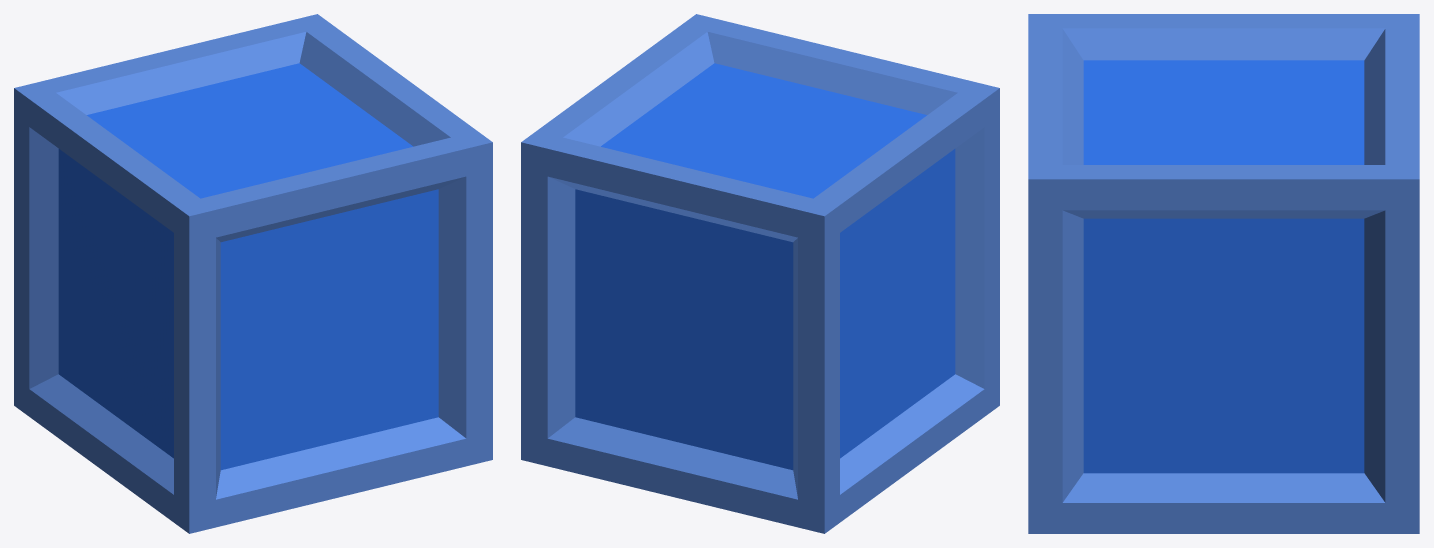
File: TestCrate.fbx
3 renders of one model, left to right at view 1: azimuth 30°, elevation 25°; view 2: azimuth 150°, elevation 25°; view 3: azimuth 270°, elevation 25°, orthographic. The views are drawn at different scales.
Parts seen in each view (by area): view 1: Cube; view 2: Cube; view 3: Cube.
Boxes of the visible parts, box(x1,y1,x2,y2) form: Cube: box(14, 14, 492, 533); Cube: box(521, 14, 999, 533); Cube: box(1028, 14, 1419, 533).
Size of the model in its own units: 200 by 200 by 200.
